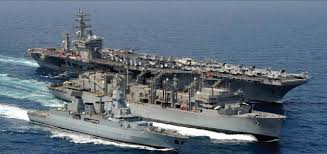Ship: (30, 9, 307, 102), (47, 69, 286, 139), (28, 88, 185, 147)
